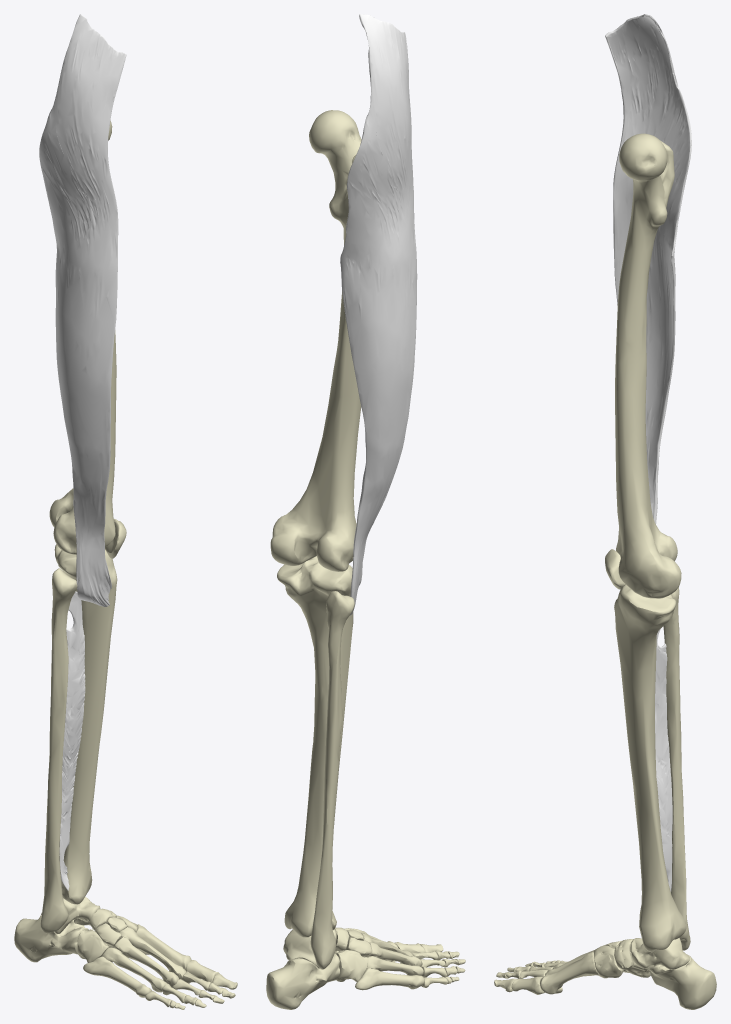
File: right leg.fbx
3 views of the same model, side by side, from view 1: azimuth 90°, elevation 25°; view 2: azimuth 150°, elevation 25°; view 3: azimuth 270°, elevation 25° (orthographic). The views are drawn at different scales.
Parts seen in each view (by area): view 1: Right iliotibial tract, Right tibia, Right fibula, Interosseous membrane of right leg, Right femur, Right calcaneus, Right fifth metatarsal bone, Right third metatarsal bone, Right fourth metatarsal bone, Right cuboid bone, Right first metatarsal bone, Right second metatarsal bone (+1 smaller); view 2: Right iliotibial tract, Right femur, Right tibia, Right fibula, Right calcaneus, Right fifth metatarsal bone, Right cuboid bone, Right talus, Right fourth metatarsal bone, Right third metatarsal bone; view 3: Right femur, Right iliotibial tract, Right tibia, Right fibula, Interosseous membrane of right leg, Right calcaneus, Right talus, Right first metatarsal bone, Right medial cuneiform bone.
Boxes of the visible parts, bbox=[...] form: Right iliotibial tract: bbox=[39, 14, 126, 606]; Right tibia: bbox=[54, 544, 117, 904]; Right fibula: bbox=[40, 568, 77, 933]; Interosseous membrane of right leg: bbox=[59, 591, 85, 890]; Right femur: bbox=[49, 120, 116, 554]; Right calcaneus: bbox=[14, 915, 88, 962]; Right fifth metatarsal bone: bbox=[83, 956, 151, 997]; Right third metatarsal bone: bbox=[114, 937, 179, 987]; Right fourth metatarsal bone: bbox=[102, 947, 166, 992]; Right cuboid bone: bbox=[77, 929, 109, 962]; Right first metatarsal bone: bbox=[136, 924, 191, 970]; Right second metatarsal bone: bbox=[119, 927, 186, 979]; Right iliotibial tract: bbox=[340, 14, 417, 615]; Right femur: bbox=[270, 110, 361, 571]; Right tibia: bbox=[277, 556, 353, 937]; Right fibula: bbox=[310, 591, 354, 969]; Right calcaneus: bbox=[266, 953, 340, 1009]; Right fifth metatarsal bone: bbox=[355, 968, 424, 990]; Right cuboid bone: bbox=[335, 950, 367, 981]; Right talus: bbox=[283, 929, 336, 968]; Right fourth metatarsal bone: bbox=[366, 956, 423, 975]; Right third metatarsal bone: bbox=[363, 942, 421, 966]; Right femur: bbox=[615, 133, 681, 598]; Right iliotibial tract: bbox=[605, 14, 691, 523]; Right tibia: bbox=[614, 584, 686, 952]; Right fibula: bbox=[663, 587, 690, 950]; Interosseous membrane of right leg: bbox=[655, 628, 672, 891]; Right calcaneus: bbox=[647, 954, 716, 1009]; Right talus: bbox=[630, 938, 690, 969]; Right first metatarsal bone: bbox=[540, 952, 598, 994]; Right medial cuneiform bone: bbox=[594, 945, 623, 978].
Bounding box in the file's own units: 1374 × 10181 × 2117.
